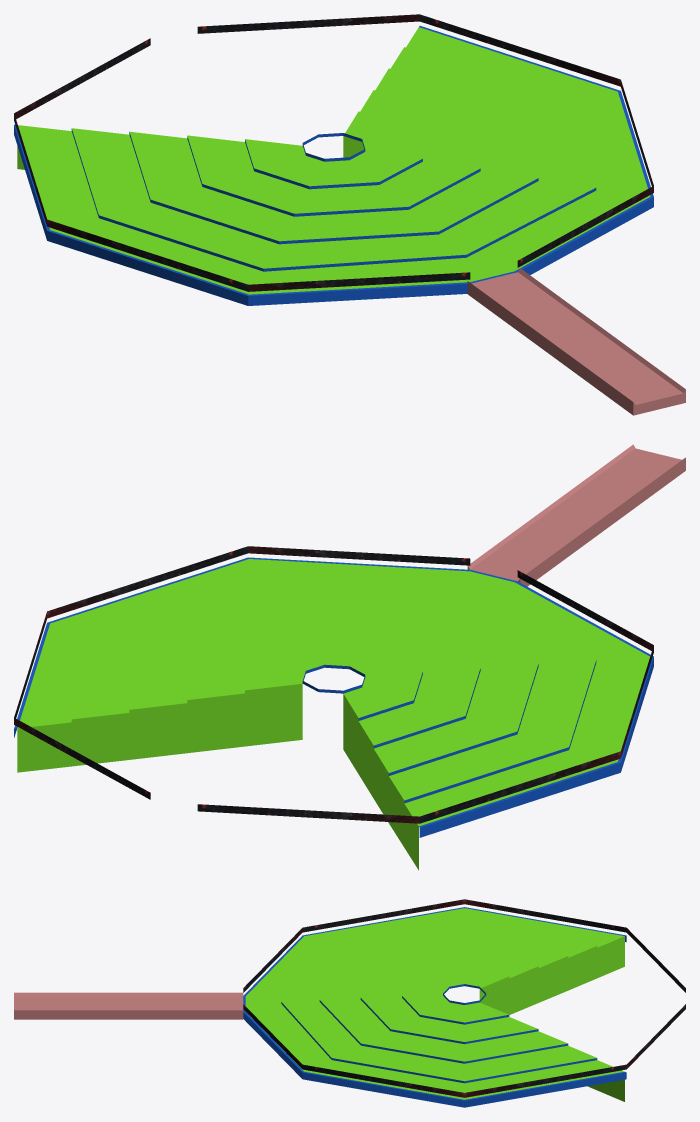
Rendered from StageWater.fbx.
The picture shows the model from 3 angles, top to bottom: view 1: azimuth 30°, elevation 25°; view 2: azimuth 150°, elevation 25°; view 3: azimuth 270°, elevation 25°; orthographic projection. The views are drawn at different scales.
Visible parts, largest first — view 1: floor, sides001, sides; view 2: floor, sides002, sides001, sides; view 3: floor, sides001, sides002, sides.
Part boxes in pixels (x1,y1,x2,y2): floor: (14,26,653,305); sides001: (467,268,685,415); sides: (14,14,653,291); floor: (14,557,653,837); sides002: (17,683,418,870); sides001: (467,444,685,586); sides: (14,546,653,823); floor: (243,907,626,1107); sides001: (14,992,243,1019); sides002: (479,936,624,1101); sides: (243,899,685,1097).
Size of the model in its own units: 60 by 5.91 by 87.95.
4 materials, 1 textured.
